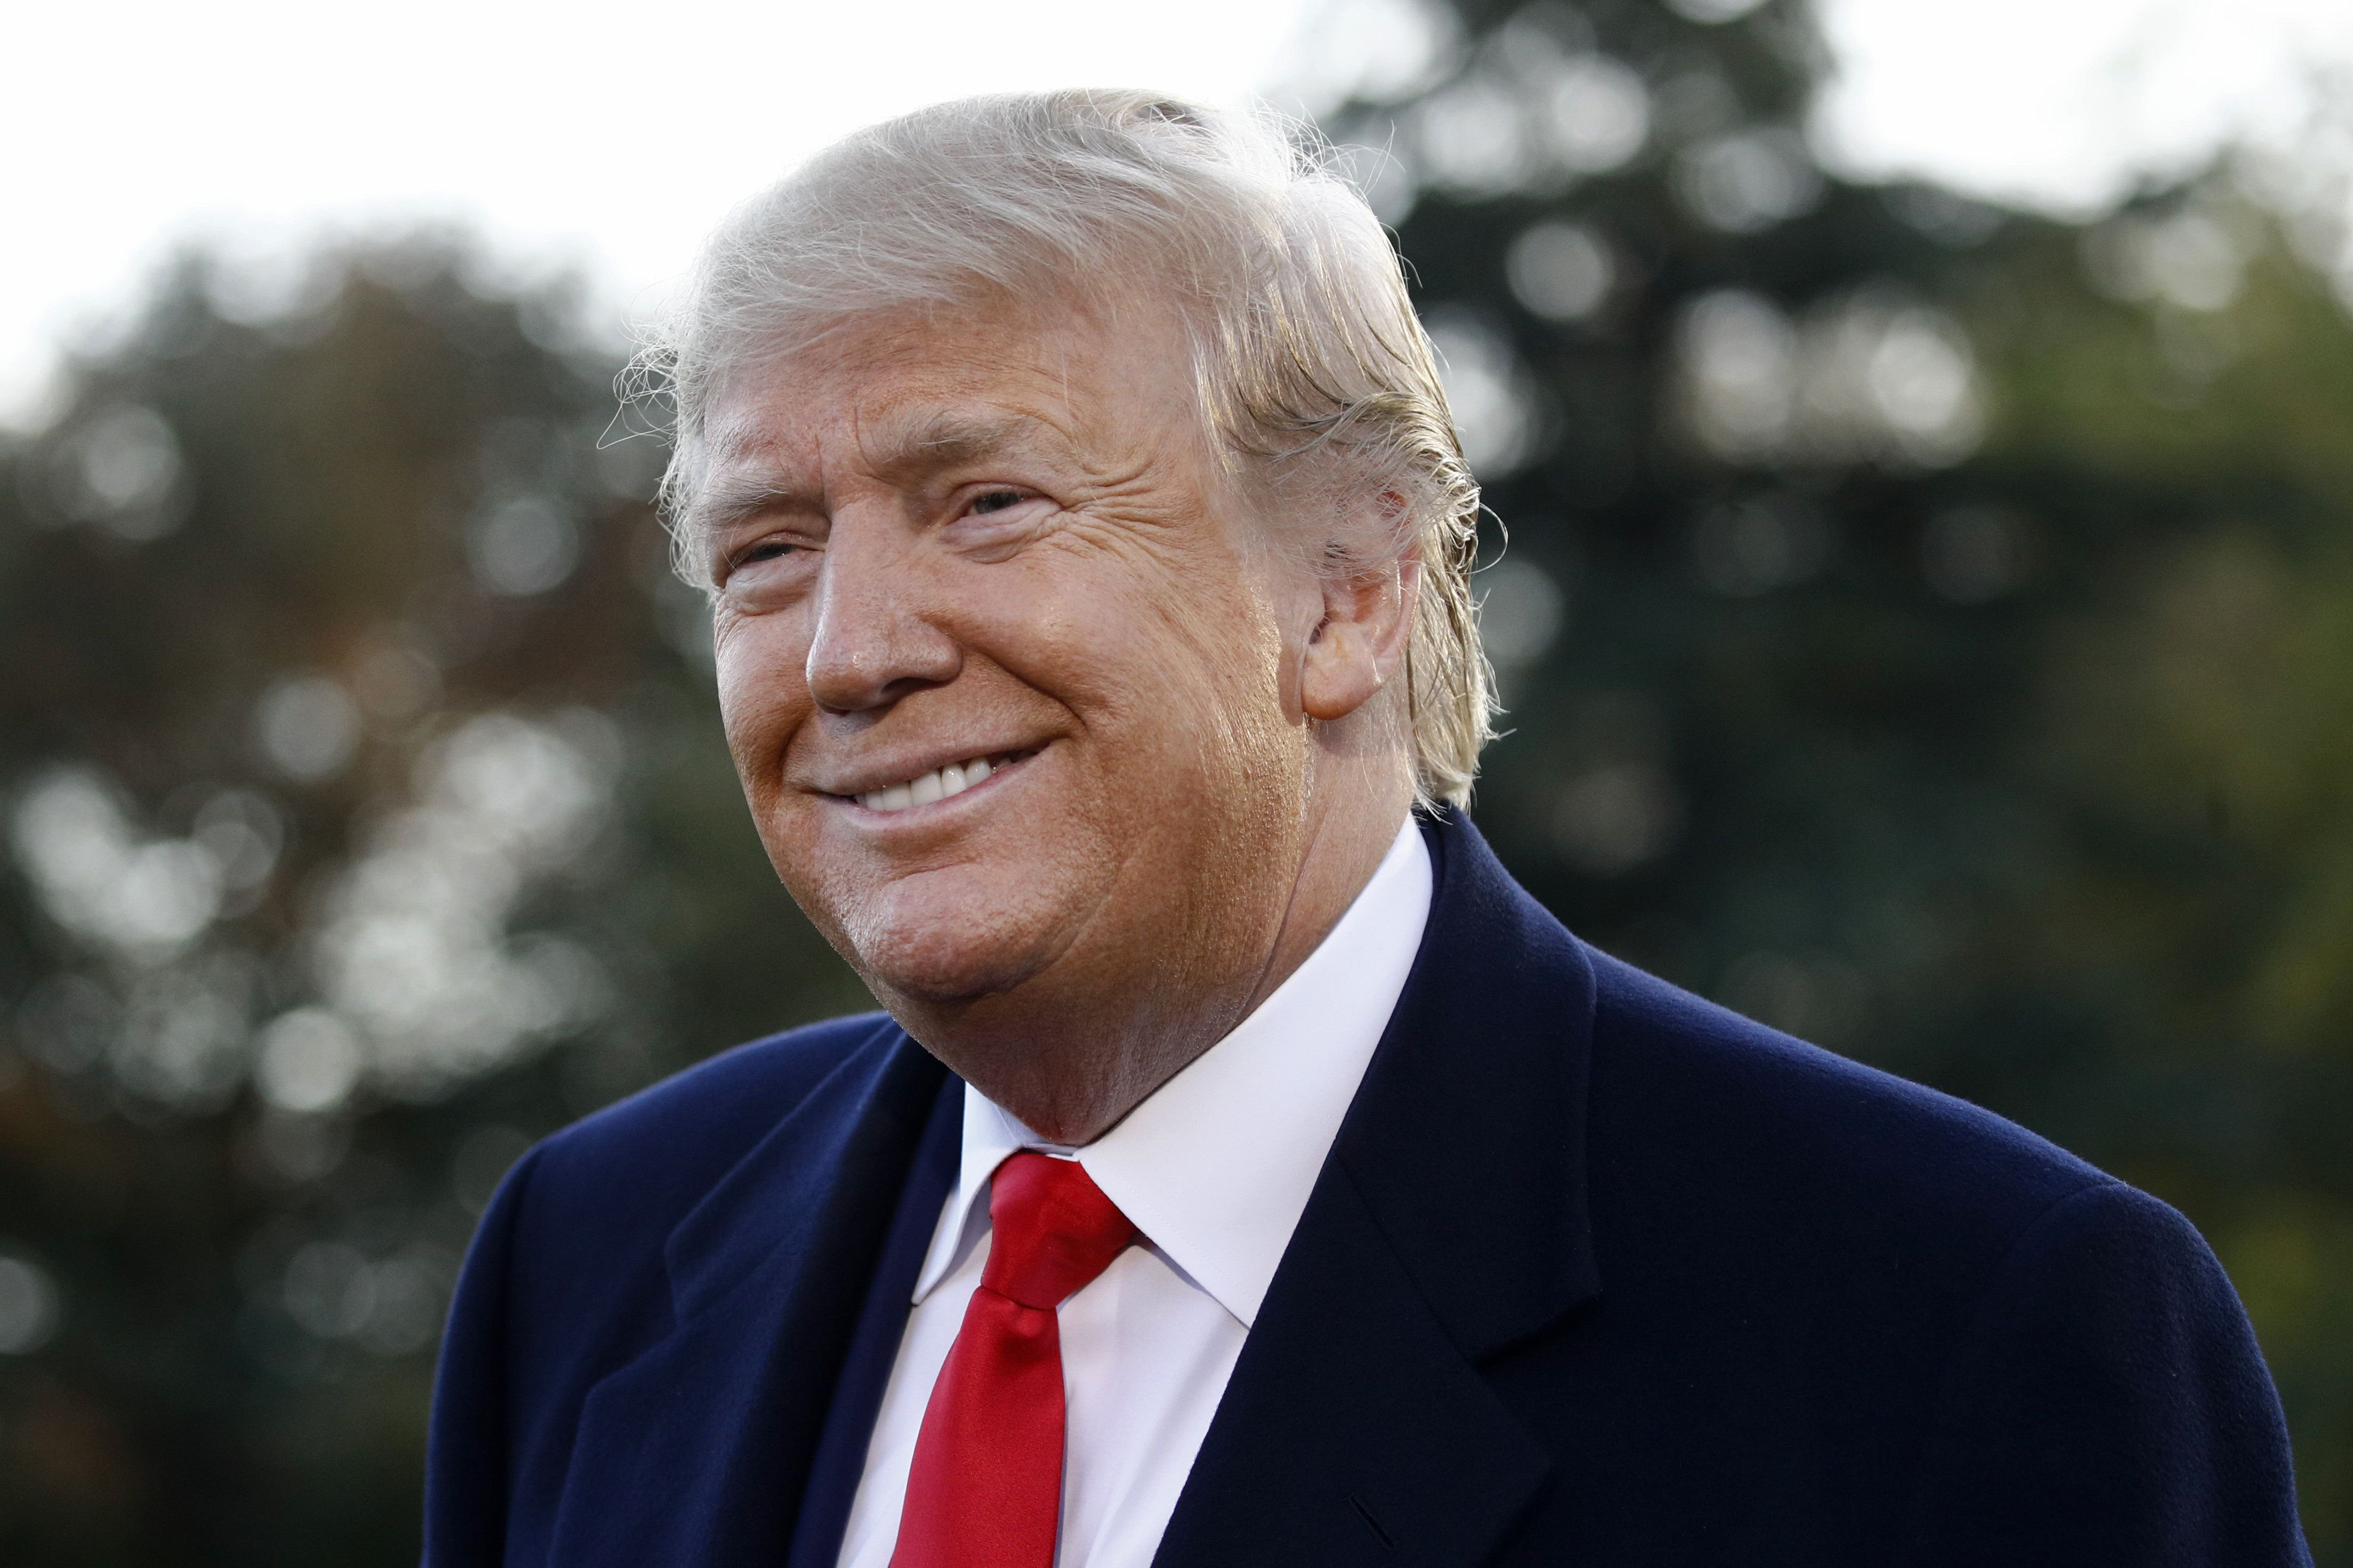noMask: (600, 90, 1454, 980)
